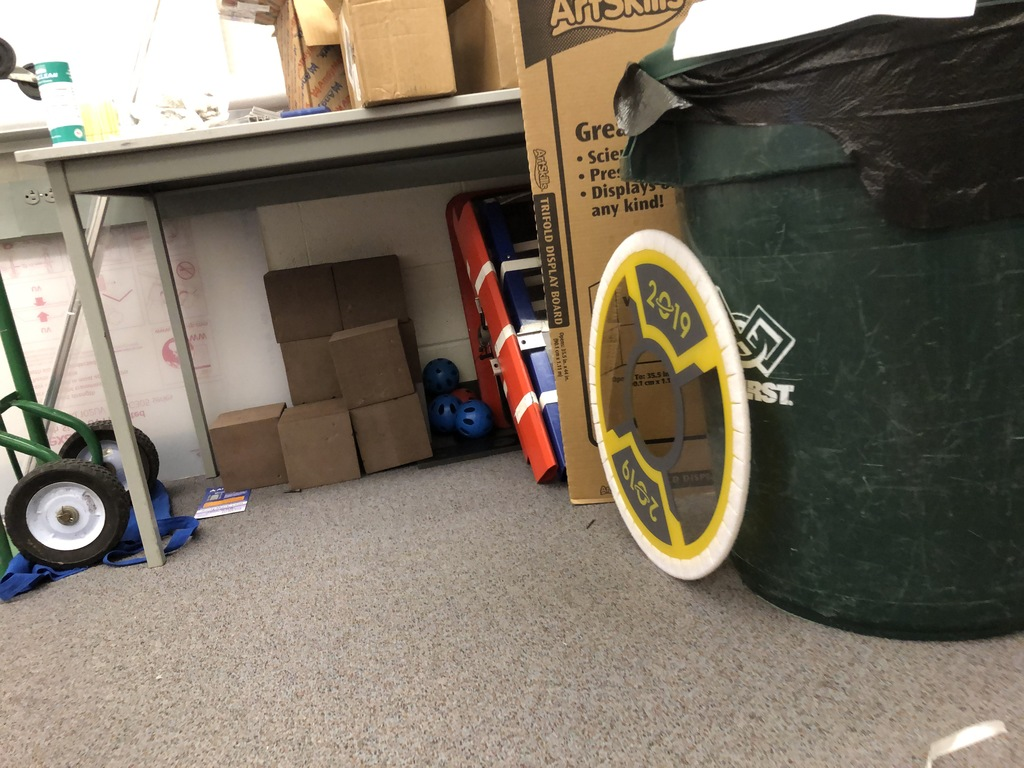hatch_panel: (577, 211, 779, 615)
